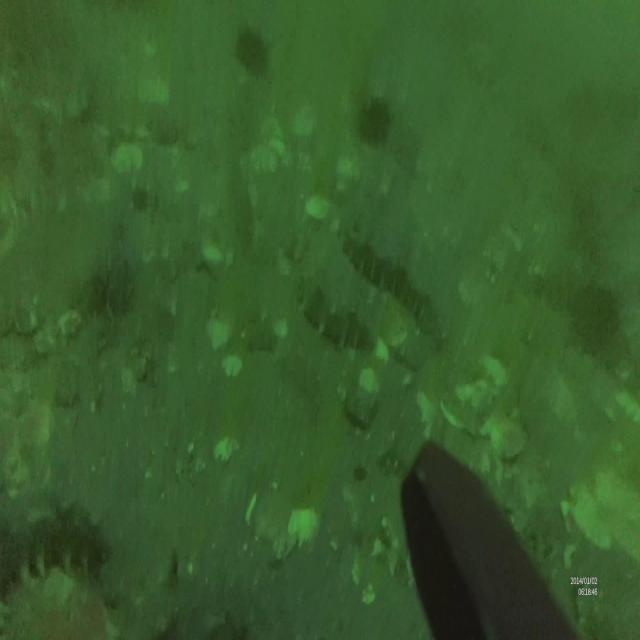echinus: (357, 91, 392, 147), (236, 27, 268, 74)
holothurian: (2, 499, 124, 599), (341, 232, 431, 314), (295, 277, 370, 356)
scallop: (304, 190, 332, 223)
